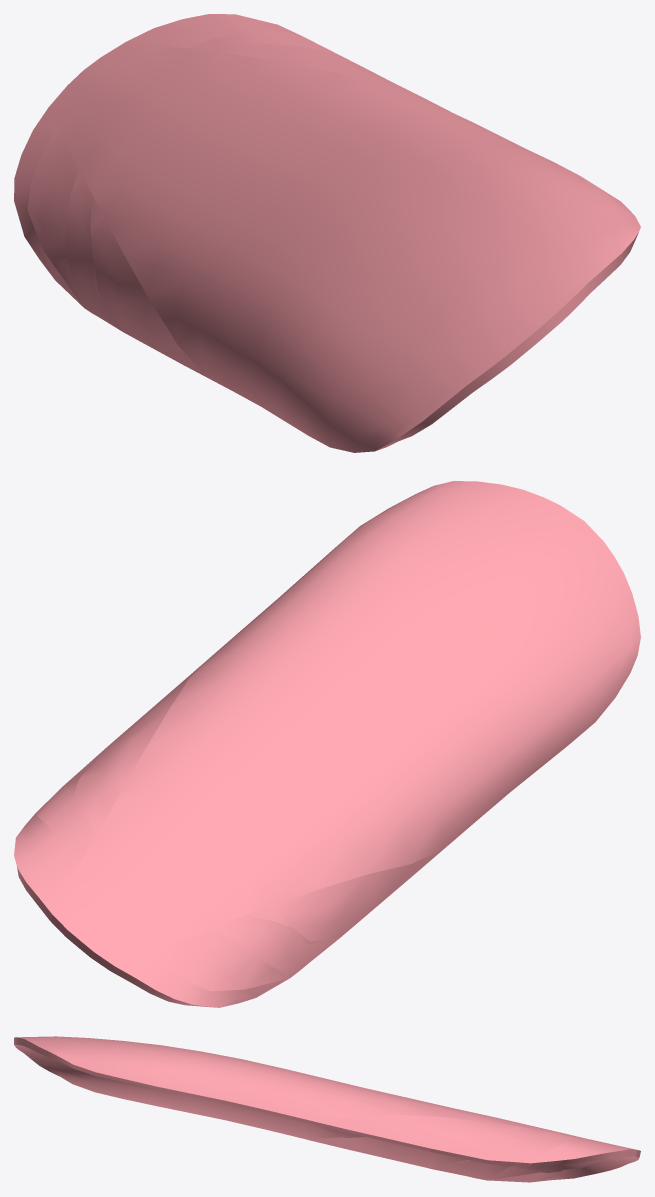
The picture shows the model from 3 angles, top to bottom: view 1: azimuth 30°, elevation 25°; view 2: azimuth 150°, elevation 25°; view 3: azimuth 270°, elevation 25°; orthographic projection. The views are drawn at different scales.
Parts seen in each view (by area): view 1: OBJ_14, OBJ_09, OBJ_07, OBJ_08, OBJ_12, OBJ_11, OBJ_13, OBJ_10; view 2: OBJ_14, OBJ_09, OBJ_07, OBJ_13, OBJ_12, OBJ_08, OBJ_11, OBJ_10; view 3: OBJ_14, OBJ_13, OBJ_10, OBJ_09, OBJ_12, OBJ_11, OBJ_08, OBJ_07.
Boxes of the visible parts, x1,y1,x2,y2 form: OBJ_14: (49,41,640,452); OBJ_09: (90,194,206,377); OBJ_07: (27,128,83,307); OBJ_08: (65,172,122,331); OBJ_12: (127,14,314,48); OBJ_11: (14,107,82,306); OBJ_13: (220,43,450,111); OBJ_10: (188,30,385,78); OBJ_14: (50,481,640,970); OBJ_09: (244,850,442,941); OBJ_07: (145,928,289,991); OBJ_13: (72,658,209,833); OBJ_12: (14,814,79,920); OBJ_08: (212,916,339,977); OBJ_11: (111,954,289,1007); OBJ_10: (35,747,106,862); OBJ_14: (14,1036,640,1161); OBJ_13: (306,1114,548,1151); OBJ_10: (430,1132,579,1166); OBJ_09: (306,1137,466,1168); OBJ_12: (530,1139,636,1166); OBJ_11: (488,1158,634,1182); OBJ_08: (429,1159,511,1180); OBJ_07: (488,1160,600,1180).
Bounding box in the file's own units: 115 × 93.93 × 303.
